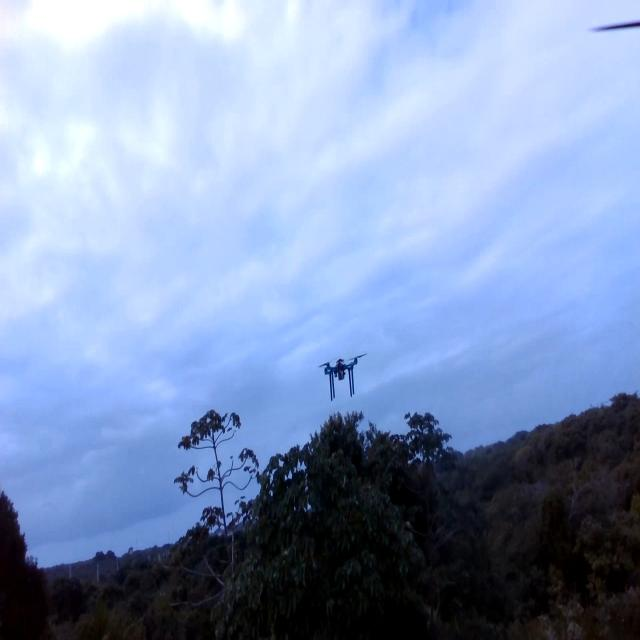-uav-: (316, 346, 368, 404)
